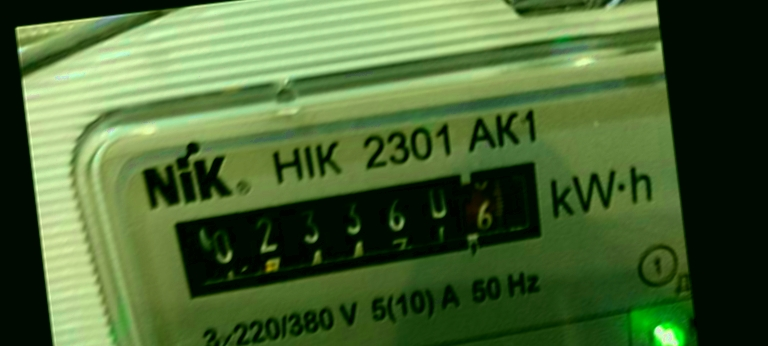0: (206, 224, 235, 269), (422, 183, 449, 223)
2: (248, 213, 279, 256)
3: (295, 206, 321, 248), (336, 199, 363, 239)
6: (378, 193, 409, 237), (471, 197, 496, 235)
screen: (147, 147, 559, 312)
